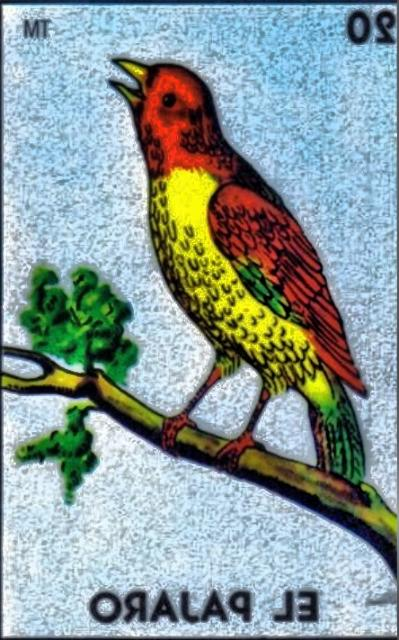El Pajaro: (2, 6, 399, 636)
